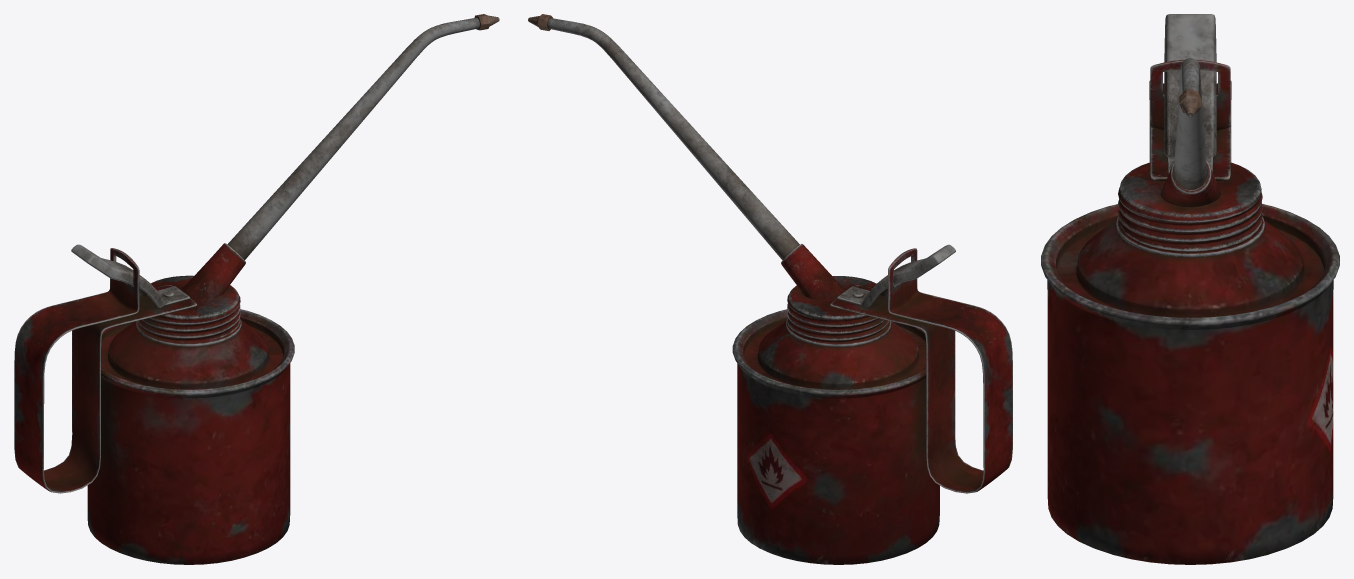
File: small_oil_can_01.glb
The picture shows the model from 3 angles, left to right: view 1: azimuth 30°, elevation 25°; view 2: azimuth 150°, elevation 25°; view 3: azimuth 270°, elevation 25°; orthographic projection. The views are drawn at different scales.
Parts seen in each view (by area): view 1: small_oil_can_01; view 2: small_oil_can_01; view 3: small_oil_can_01.
Part boxes in pixels (x1,y1,x2,y2): small_oil_can_01: (14, 14, 499, 564); small_oil_can_01: (528, 14, 1012, 564); small_oil_can_01: (1041, 14, 1339, 564).
Bounding box in the file's own units: 0.2661 × 0.2368 × 0.1039.
1 material, 1 textured.
